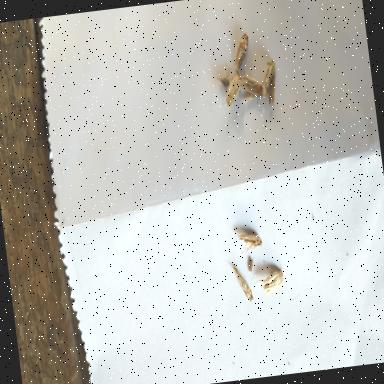pbw: (256, 57, 282, 112), (228, 256, 255, 308), (250, 264, 288, 300), (237, 70, 266, 110), (220, 70, 246, 110), (230, 29, 252, 73), (234, 228, 264, 256), (214, 68, 233, 90)
